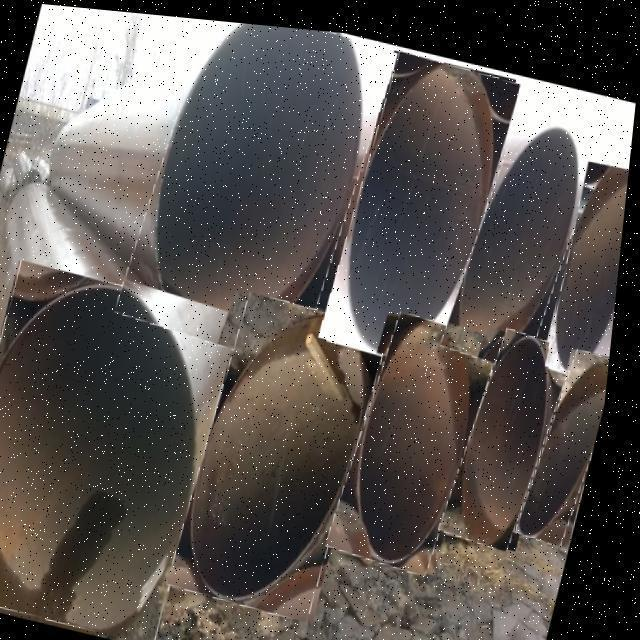pipe: (122, 16, 398, 361), (0, 259, 246, 640), (180, 287, 395, 615), (326, 43, 521, 360), (337, 303, 506, 567), (448, 102, 605, 361), (449, 318, 581, 540), (525, 337, 616, 534), (552, 150, 631, 366)
